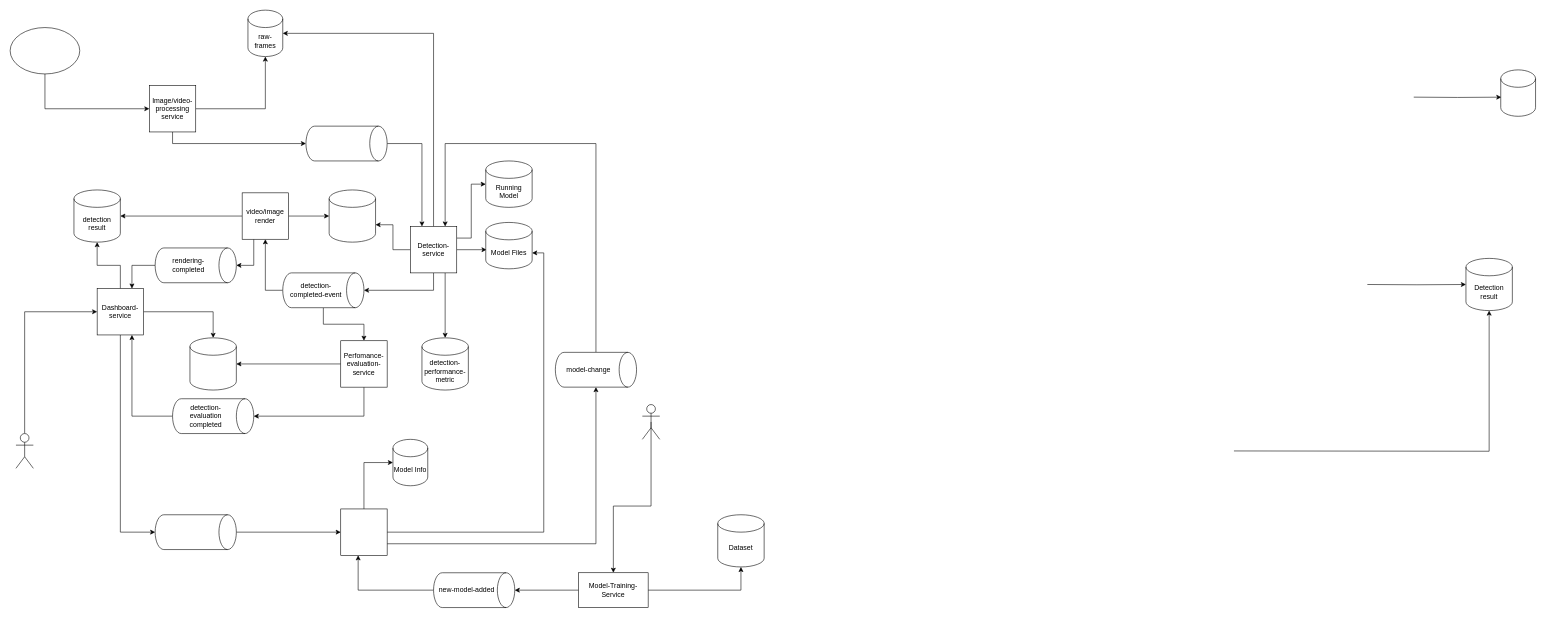
Image size: 1546x618. Some labels were removed from this diagram. The shapes that lost their labels are listed below. From the top down, each one's centre as x and y in pixels, then its label:
point 45,50: camera
point 1518,92: Model
point 346,143: frame ready event
point 352,215: Frames with annotation
point 212,363: performance-report
point 651,421: AI-Engineer
point 24,450: User
point 195,532: config-model-changed
point 363,531: Model-mangement-service
